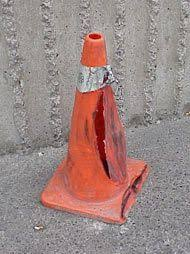cones: (38, 33, 150, 227)
